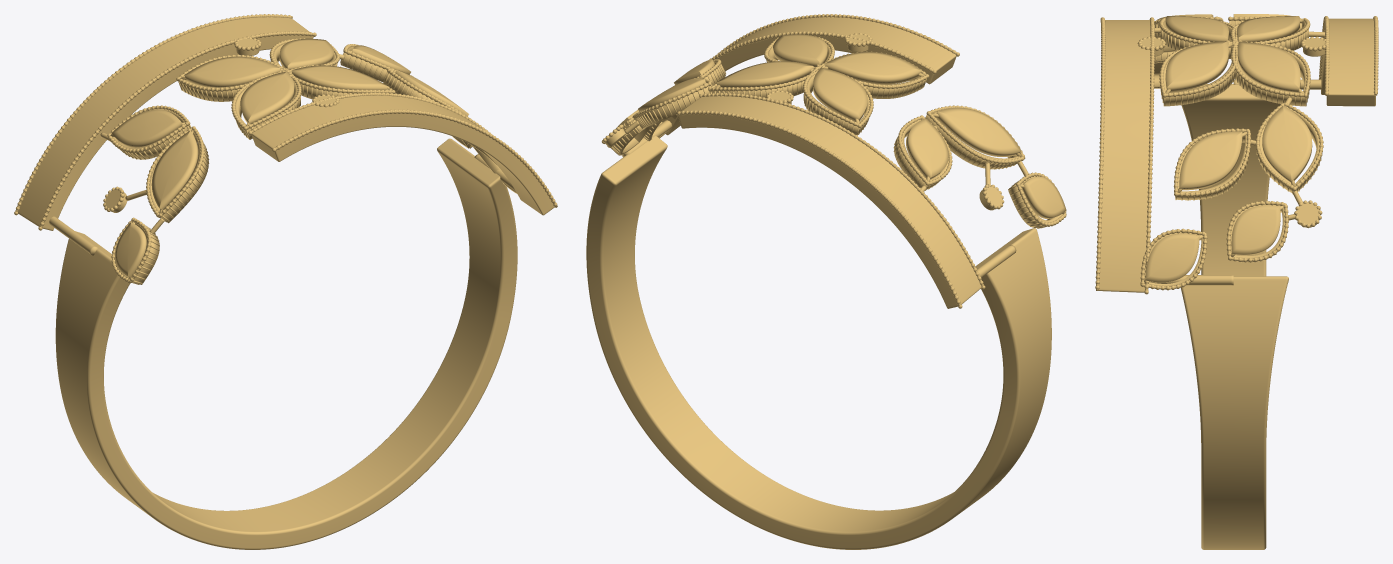
The picture shows the model from 3 angles, left to right: view 1: azimuth 30°, elevation 25°; view 2: azimuth 150°, elevation 25°; view 3: azimuth 270°, elevation 25°; orthographic projection. The views are drawn at different scales.
Parts seen in each view (by area): view 1: Complete tapered comfort shank | reverse inferred, Far split frame, Near split frame, Milgrain | individual rounded gold beads, Flanking leaf 2 raised convex polished platelet, Central four-petal flower 1 raised convex polished platelet, Central four-petal flower 3 raised convex polished platelet, Flanking leaf 1 raised convex polished platelet, Central four-petal flower 4 raised convex polished platelet, Central four-petal flower 2 raised convex polished platelet, Flanking leaf 3 raised convex polished platelet, Flanking leaf 2 open marquise gallery; view 2: Complete tapered comfort shank | reverse inferred, Far split frame, Milgrain | individual rounded gold beads, Near split frame, Flanking leaf 2 raised convex polished platelet, Central four-petal flower 3 raised convex polished platelet, Central four-petal flower 1 raised convex polished platelet, Flanking leaf 1 raised convex polished platelet, Central four-petal flower 2 raised convex polished platelet, Central four-petal flower 4 raised convex polished platelet, Flanking leaf 3 raised convex polished platelet, Flanking leaf 2 open marquise gallery (+6 smaller); view 3: Complete tapered comfort shank | reverse inferred, Near split frame, Milgrain | individual rounded gold beads, Far split frame, Flanking leaf 5 raised convex polished platelet, Flanking leaf 4 raised convex polished platelet, Central four-petal flower 4 raised convex polished platelet, Central four-petal flower 2 raised convex polished platelet, Flanking leaf 7 raised convex polished platelet, Flanking leaf 6 raised convex polished platelet, Central four-petal flower 1 raised convex polished platelet, Central four-petal flower 3 raised convex polished platelet (+13 smaller).
Part boxes in pixels (x1,y1,x2,y2): Complete tapered comfort shank | reverse inferred: (55, 138, 517, 549); Far split frame: (18, 17, 313, 230); Near split frame: (251, 95, 554, 215); Milgrain | individual rounded gold beads: (14, 14, 557, 283); Flanking leaf 2 raised convex polished platelet: (151, 130, 198, 209); Central four-petal flower 1 raised convex polished platelet: (184, 56, 280, 87); Central four-petal flower 3 raised convex polished platelet: (240, 71, 294, 123); Flanking leaf 1 raised convex polished platelet: (111, 109, 182, 147); Central four-petal flower 4 raised convex polished platelet: (292, 65, 387, 90); Central four-petal flower 2 raised convex polished platelet: (279, 38, 333, 69); Flanking leaf 3 raised convex polished platelet: (114, 222, 146, 277); Flanking leaf 2 open marquise gallery: (149, 132, 208, 223); Complete tapered comfort shank | reverse inferred: (586, 136, 1051, 549); Far split frame: (678, 96, 981, 308); Milgrain | individual rounded gold beads: (601, 14, 1066, 308); Near split frame: (661, 17, 956, 135); Flanking leaf 2 raised convex polished platelet: (936, 107, 1021, 156); Central four-petal flower 3 raised convex polished platelet: (825, 52, 921, 84); Central four-petal flower 1 raised convex polished platelet: (813, 67, 867, 121); Flanking leaf 1 raised convex polished platelet: (906, 118, 948, 179); Central four-petal flower 2 raised convex polished platelet: (716, 61, 812, 87); Central four-petal flower 4 raised convex polished platelet: (773, 34, 827, 67); Flanking leaf 3 raised convex polished platelet: (1022, 176, 1066, 218); Flanking leaf 2 open marquise gallery: (926, 112, 1020, 169); Complete tapered comfort shank | reverse inferred: (1181, 84, 1288, 549); Near split frame: (1099, 20, 1150, 292); Milgrain | individual rounded gold beads: (1095, 16, 1378, 294); Far split frame: (1321, 18, 1375, 106); Flanking leaf 5 raised convex polished platelet: (1179, 131, 1242, 190); Flanking leaf 4 raised convex polished platelet: (1262, 106, 1312, 182); Central four-petal flower 4 raised convex polished platelet: (1165, 41, 1228, 92); Central four-petal flower 2 raised convex polished platelet: (1237, 41, 1300, 92); Flanking leaf 7 raised convex polished platelet: (1145, 234, 1199, 282); Flanking leaf 6 raised convex polished platelet: (1231, 205, 1280, 255); Central four-petal flower 1 raised convex polished platelet: (1237, 16, 1299, 42); Central four-petal flower 3 raised convex polished platelet: (1165, 16, 1228, 41).
Bounding box in the file's own units: 0.0195 × 0.0202 × 0.0107.
